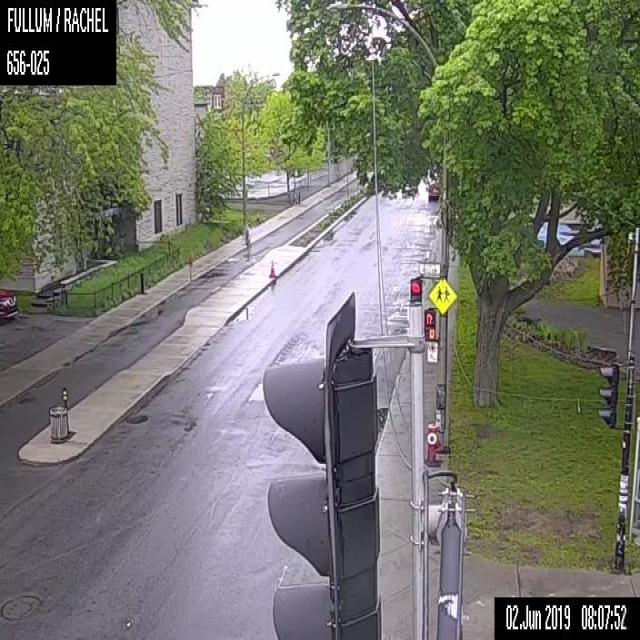construction: (268, 258, 276, 276)
vehicle: (0, 286, 18, 322), (428, 182, 439, 200)
